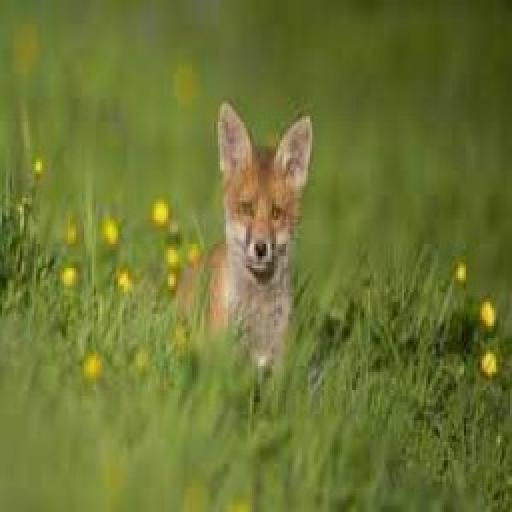zorro: (176, 102, 310, 370)
